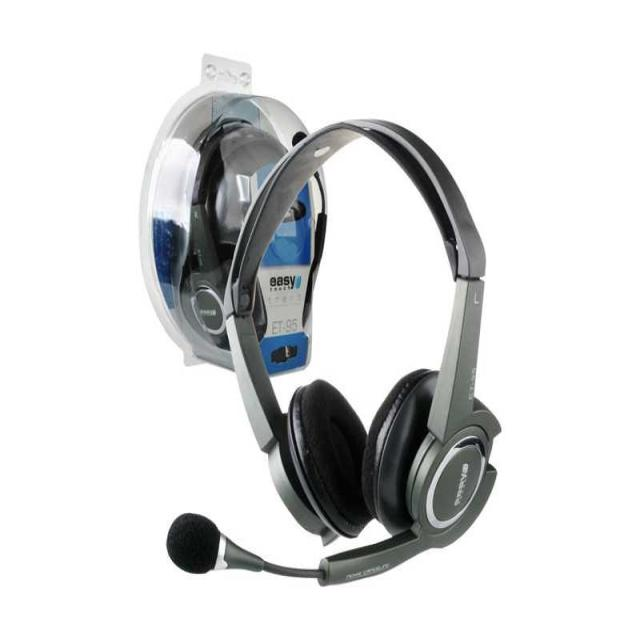microphone: (161, 510, 311, 606)
